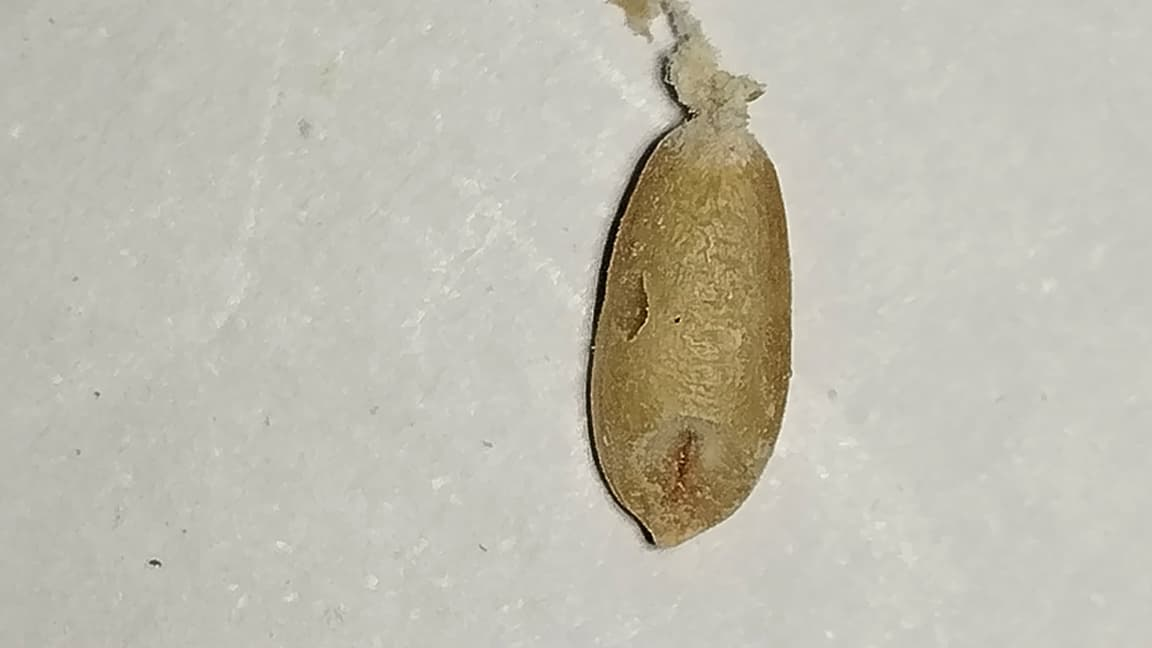damage: (595, 33, 791, 546)
insectdamage: (615, 385, 746, 544), (593, 267, 686, 363)
molddamage: (626, 0, 764, 133)
